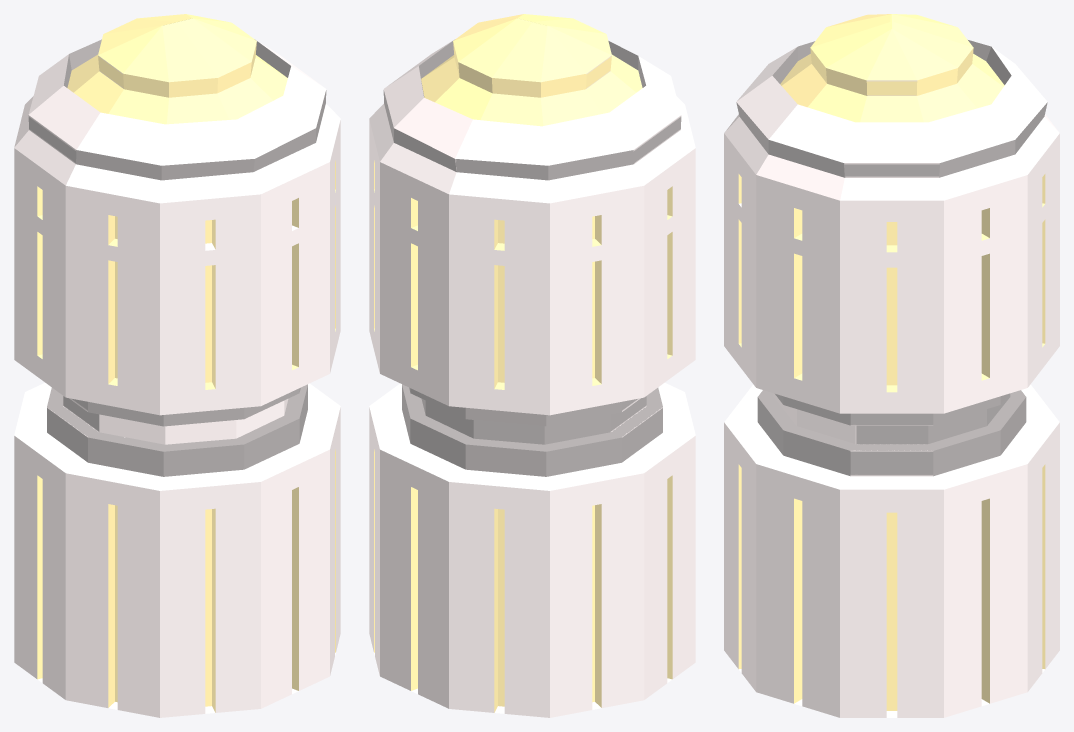
File: samsar-white-temple.glb
The picture shows the model from 3 angles, left to right: view 1: azimuth 30°, elevation 25°; view 2: azimuth 150°, elevation 25°; view 3: azimuth 270°, elevation 25°; orthographic projection.
Parts seen in each view (by area): view 1: temple; view 2: temple; view 3: temple.
Boxes of the visible parts, x1,y1,x2,y2 form: temple: (14, 14, 340, 717); temple: (369, 14, 695, 717); temple: (724, 14, 1059, 717).
Bounding box in the file's own units: 7.61 × 16.54 × 8.
1 material, 1 textured.
